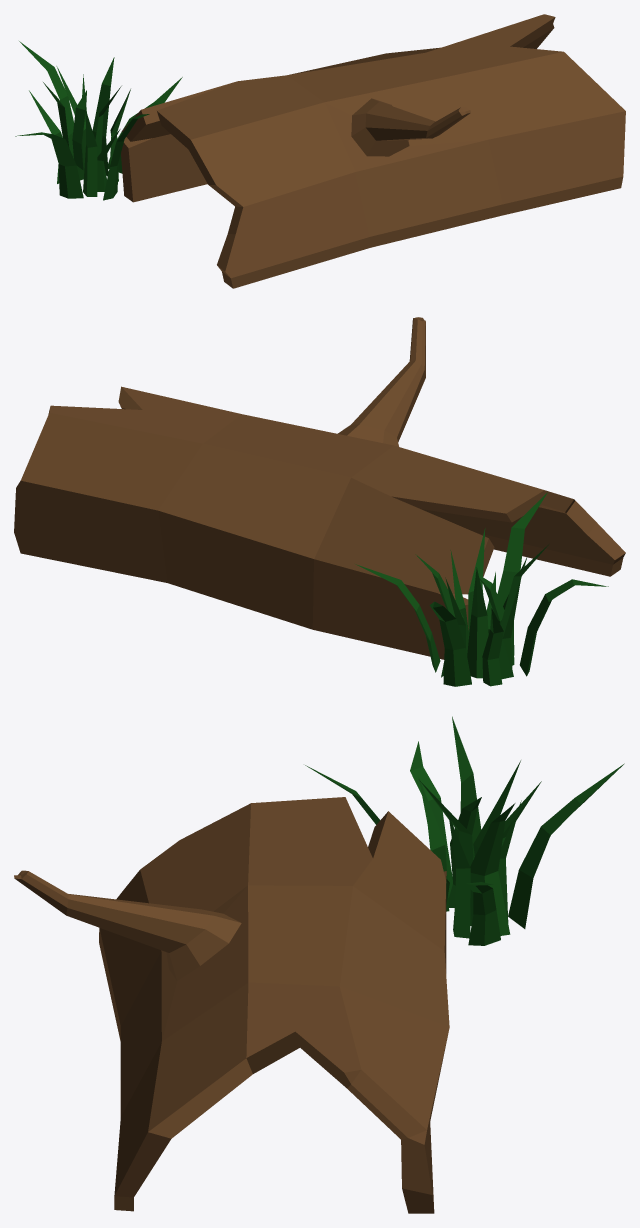
The model's file is folliage15.glb.
The picture shows the model from 3 angles, top to bottom: view 1: azimuth 30°, elevation 25°; view 2: azimuth 150°, elevation 25°; view 3: azimuth 270°, elevation 25°; orthographic projection. The views are drawn at different scales.
Visible parts, largest first — view 1: Cube.010; view 2: Cube.010; view 3: Cube.010.
Part boxes in pixels (x1,y1,x2,y2): Cube.010: [15, 14, 625, 288]; Cube.010: [14, 317, 625, 686]; Cube.010: [14, 716, 624, 1213].
Size of the model in its own units: 0.7696 by 0.2149 by 0.5663.
